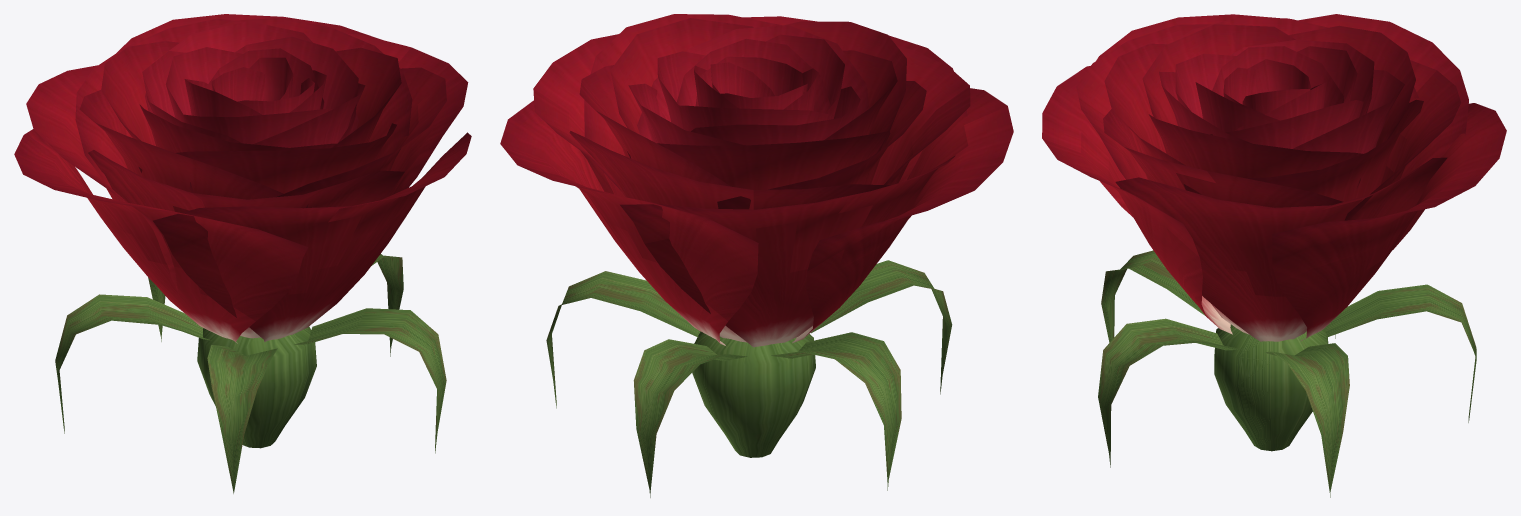
The model's file is rose_shards.glb.
3 renders of one model, left to right at view 1: azimuth 30°, elevation 25°; view 2: azimuth 150°, elevation 25°; view 3: azimuth 270°, elevation 25°, orthographic. The views are drawn at different scales.
Parts seen in each view (by area): view 1: shard_44, shard_51, shard_57, shard_27, shard_43, shard_23, shard_50, shard_55, shard_56, shard_49, shard_54, shard_21 (+28 smaller); view 2: shard_57, shard_48, shard_40, shard_21, shard_50, shard_41, shard_53, shard_32, shard_54, shard_19, shard_47, shard_25 (+29 smaller); view 3: shard_38, shard_57, shard_47, shard_19, shard_52, shard_46, shard_56, shard_17, shard_25, shard_48, shard_23, shard_53 (+29 smaller).
Boxes of the visible parts, x1,y1,x2,y2 form: shard_44: (153,196,400,294); shard_51: (132,206,308,321); shard_57: (197,326,316,448); shard_27: (79,90,308,207); shard_43: (207,186,425,342); shard_23: (138,123,396,193); shard_50: (14,129,181,268); shard_55: (207,345,277,493); shard_56: (294,308,446,453); shard_49: (79,177,255,343); shard_54: (55,294,211,433); shard_21: (101,41,193,192); shard_57: (692,331,815,457); shard_48: (518,165,758,320); shard_40: (645,222,813,347); shard_21: (627,131,890,189); shard_50: (807,106,1013,271); shard_41: (620,191,872,272); shard_53: (633,339,747,497); shard_32: (569,131,753,209); shard_54: (771,332,901,490); shard_19: (610,18,753,134); shard_47: (500,100,624,249); shard_25: (579,65,730,186); shard_38: (1115,177,1362,297); shard_57: (1214,324,1328,451); shard_47: (1272,186,1474,283); shard_19: (1148,114,1362,177); shard_52: (1264,343,1349,497); shard_46: (1278,217,1413,341); shard_56: (1098,318,1243,467); shard_17: (1142,24,1295,160); shard_25: (1183,99,1423,201); shard_48: (1400,103,1506,232); shard_23: (1104,43,1185,165); shard_53: (1325,284,1476,422).
Size of the model in its own units: 0.068 by 0.0575 by 0.0653.
Materials: 1 (1 with a texture image).
